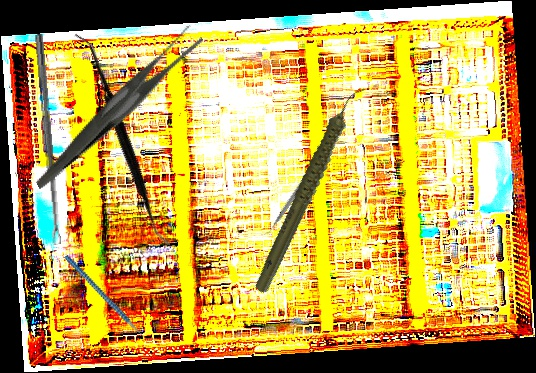Chopper: (63, 236, 158, 361), (258, 131, 336, 240)
Dressing Forceps: (3, 22, 231, 190)
Handpiece: (214, 82, 407, 298)
Spatula Surgical: (6, 32, 238, 248)
Surgical Spoon: (33, 34, 62, 245)
